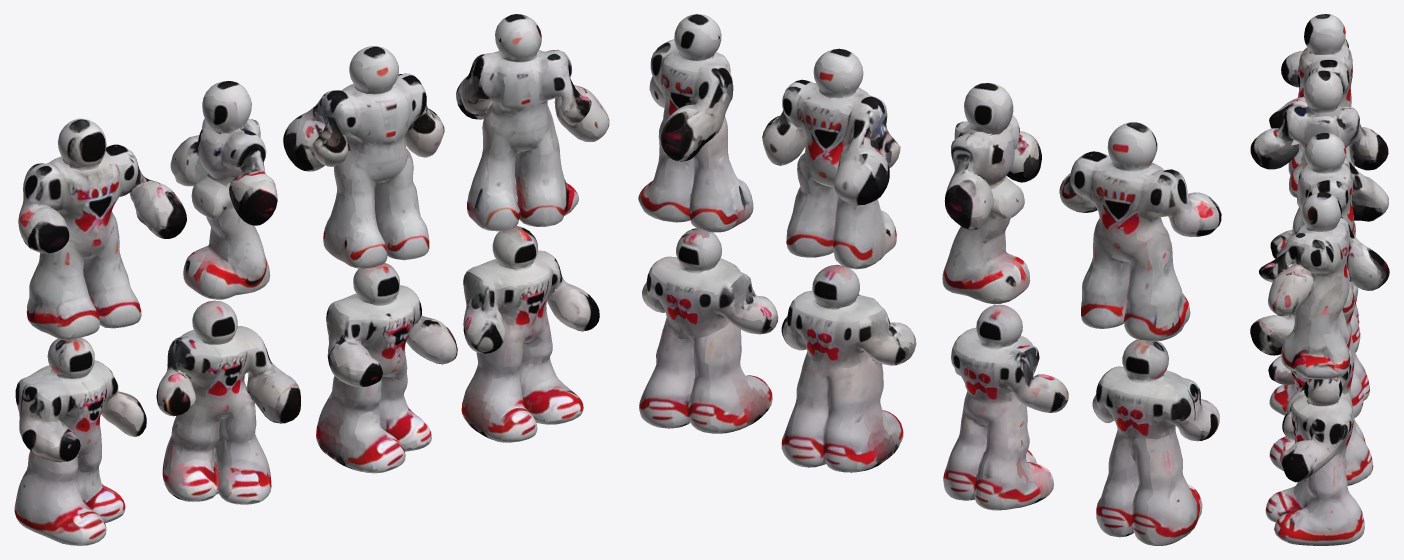
3 views of the same model, side by side, from view 1: azimuth 30°, elevation 25°; view 2: azimuth 150°, elevation 25°; view 3: azimuth 270°, elevation 25° (orthographic). The views are drawn at different scales.
Visible parts, largest first — view 1: textured_mesh; view 2: textured_mesh; view 3: textured_mesh.
Boxes of the visible parts, box(x1,y1,x2,y2) form: textured_mesh: box(14, 14, 609, 545); textured_mesh: box(638, 14, 1221, 545); textured_mesh: box(1250, 14, 1389, 545).
Bounding box in the file's own units: 1.99 × 1.35 × 0.5002.
Materials: 1 (1 with a texture image).
